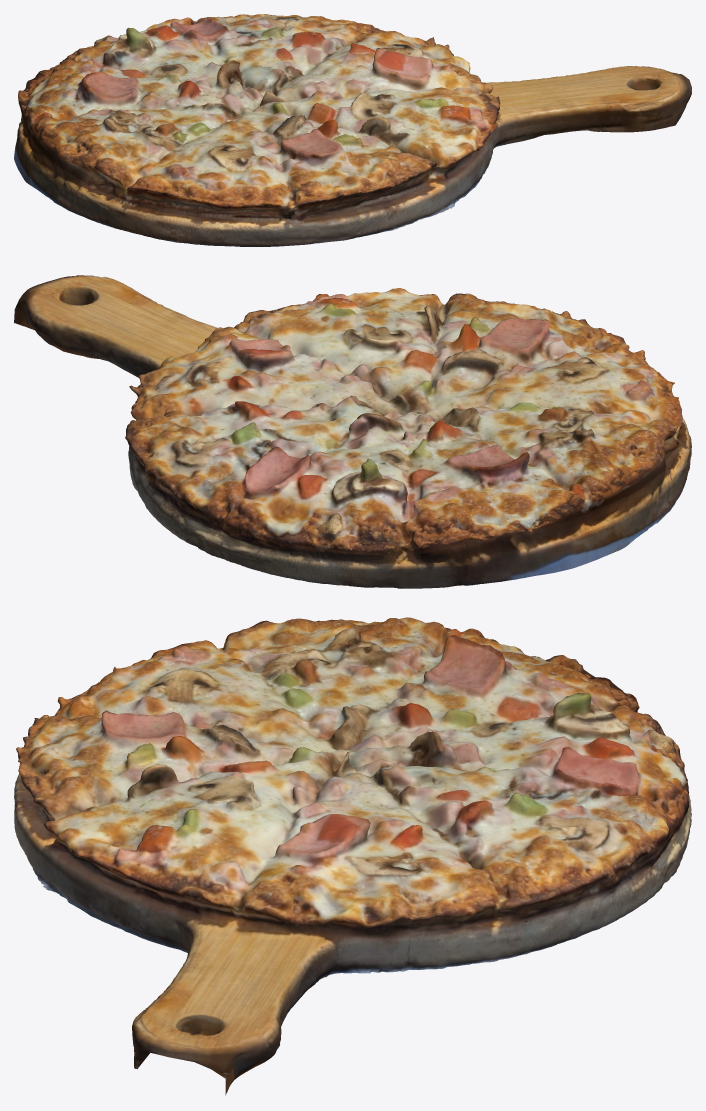
File: Turkey.Pizaa.glb
The picture shows the model from 3 angles, top to bottom: view 1: azimuth 30°, elevation 25°; view 2: azimuth 150°, elevation 25°; view 3: azimuth 270°, elevation 25°; orthographic projection. The views are drawn at different scales.
Parts seen in each view (by area): view 1: 3DModel; view 2: 3DModel; view 3: 3DModel.
Part boxes in pixels (box(x1,y1,x2,y2)): 3DModel: box(14, 14, 691, 246); 3DModel: box(14, 275, 691, 588); 3DModel: box(14, 617, 691, 1095).
Size of the model in its own units: 0.4258 by 0.0537 by 0.3001.
Materials: 1 (1 with a texture image).
